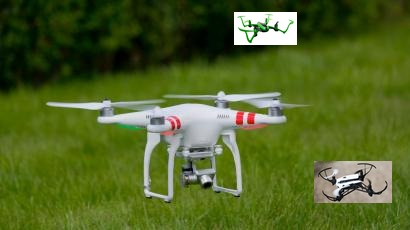drone: (47, 90, 306, 204), (314, 161, 392, 203), (234, 12, 297, 45)
